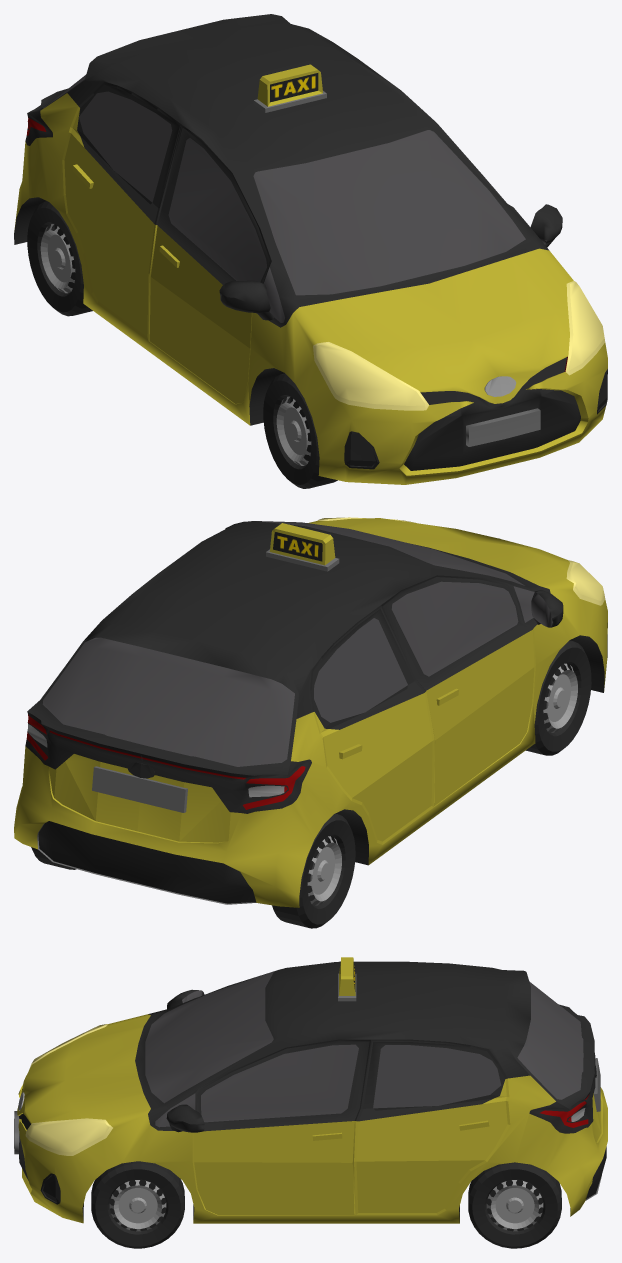
Rendered from toyota_yaris 1.fbx.
3 renders of one model, top to bottom at view 1: azimuth 30°, elevation 25°; view 2: azimuth 150°, elevation 25°; view 3: azimuth 270°, elevation 25°, orthographic. The views are drawn at different scales.
Parts seen in each view (by area): view 1: yarishsd 3ed, 31.wheel_fr.009, 31.wheel_fr.008, SchoolBus.002; view 2: yarishsd 3ed, 31.wheel_fr.008, 31.wheel_fr.009, SchoolBus.002; view 3: yarishsd 3ed, 31.wheel_fr.010, 31.wheel_fr.011, SchoolBus.002.
Part boxes in pixels (x1,y1,x2,y2): yarishsd 3ed: [14, 14, 607, 484]; 31.wheel_fr.009: [263, 373, 337, 488]; 31.wheel_fr.008: [27, 201, 92, 316]; SchoolBus.002: [253, 64, 326, 112]; yarishsd 3ed: [14, 517, 607, 907]; 31.wheel_fr.008: [272, 813, 355, 928]; 31.wheel_fr.009: [526, 640, 591, 755]; SchoolBus.002: [266, 523, 339, 571]; yarishsd 3ed: [14, 961, 607, 1223]; 31.wheel_fr.010: [91, 1161, 184, 1248]; 31.wheel_fr.011: [468, 1162, 561, 1248]; SchoolBus.002: [338, 957, 356, 1001].
Bounding box in the file's own units: 173 × 140 × 331.
